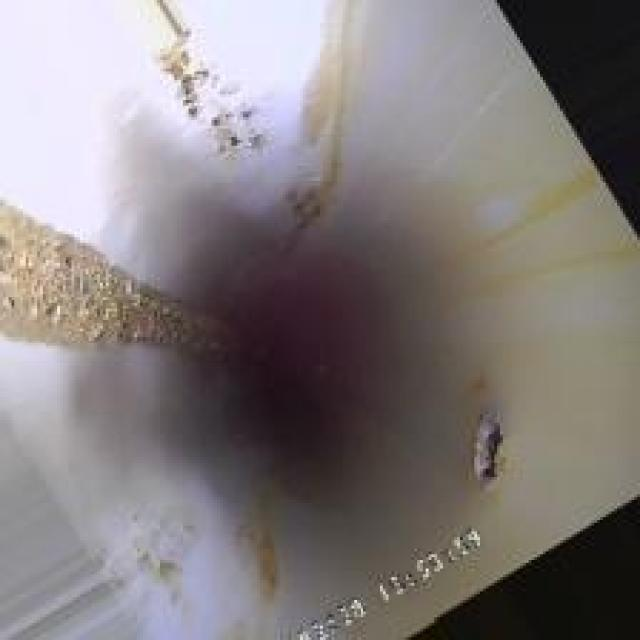ferrule: (460, 408, 511, 483)
